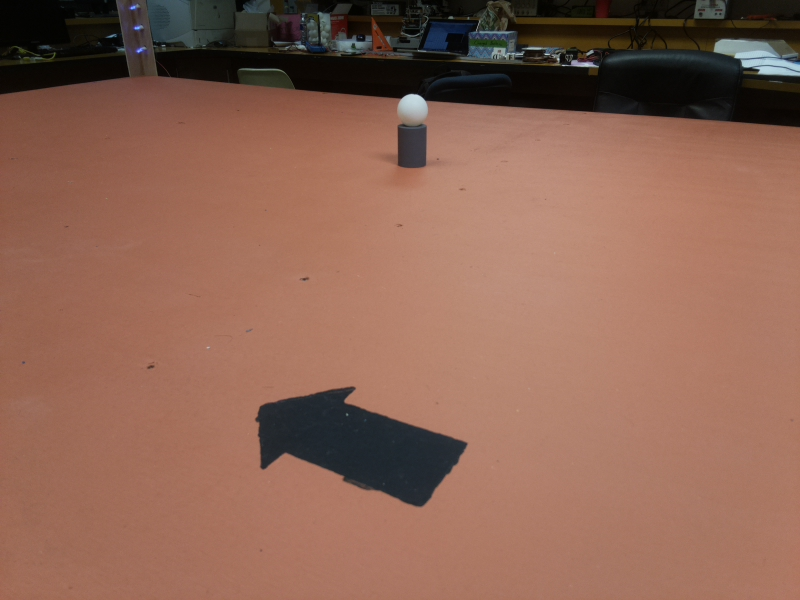obstacle: (396, 93, 429, 169)
start: (259, 384, 470, 507)
